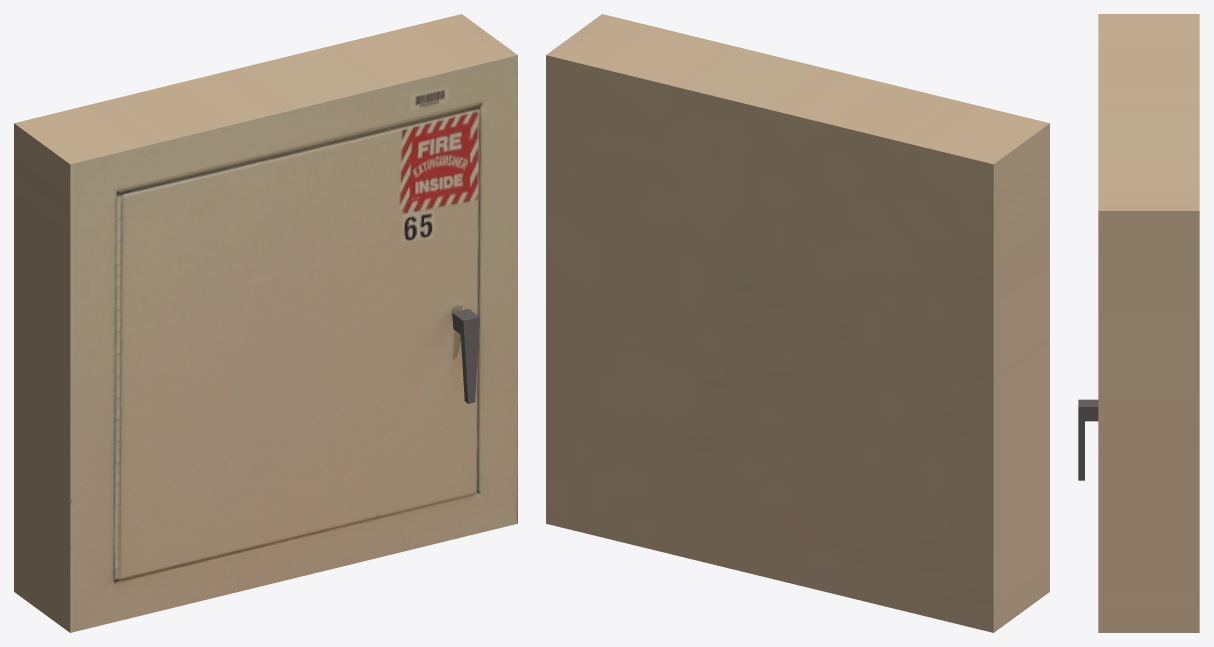
File: fire_box.fbx
The picture shows the model from 3 angles, left to right: view 1: azimuth 30°, elevation 25°; view 2: azimuth 150°, elevation 25°; view 3: azimuth 270°, elevation 25°; orthographic projection. The views are drawn at different scales.
Visible parts, largest first — view 1: fire_box, handle; view 2: fire_box; view 3: fire_box, handle.
Boxes of the visible parts, x1=… form: fire_box: x1=14, y1=14, x2=517, y2=632; handle: x1=452, y1=309, x2=479, y2=403; fire_box: x1=546, y1=14, x2=1049, y2=632; fire_box: x1=1098, y1=14, x2=1199, y2=632; handle: x1=1078, y1=399, x2=1098, y2=480.
Size of the model in its own units: 1 by 1 by 0.2603.
2 materials, 1 textured.
